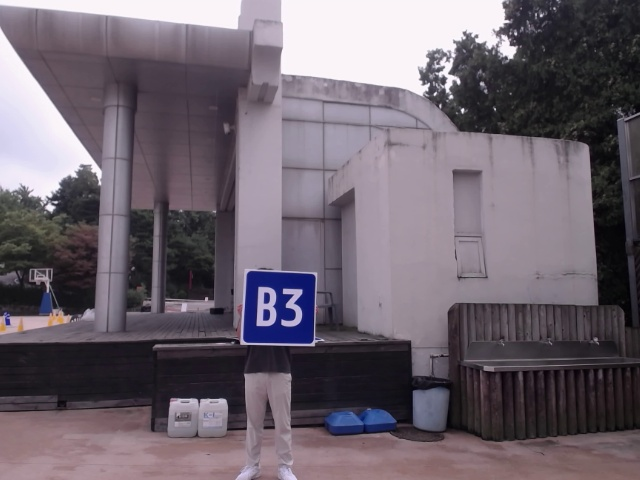delivery_b3: (244, 271, 317, 343)
